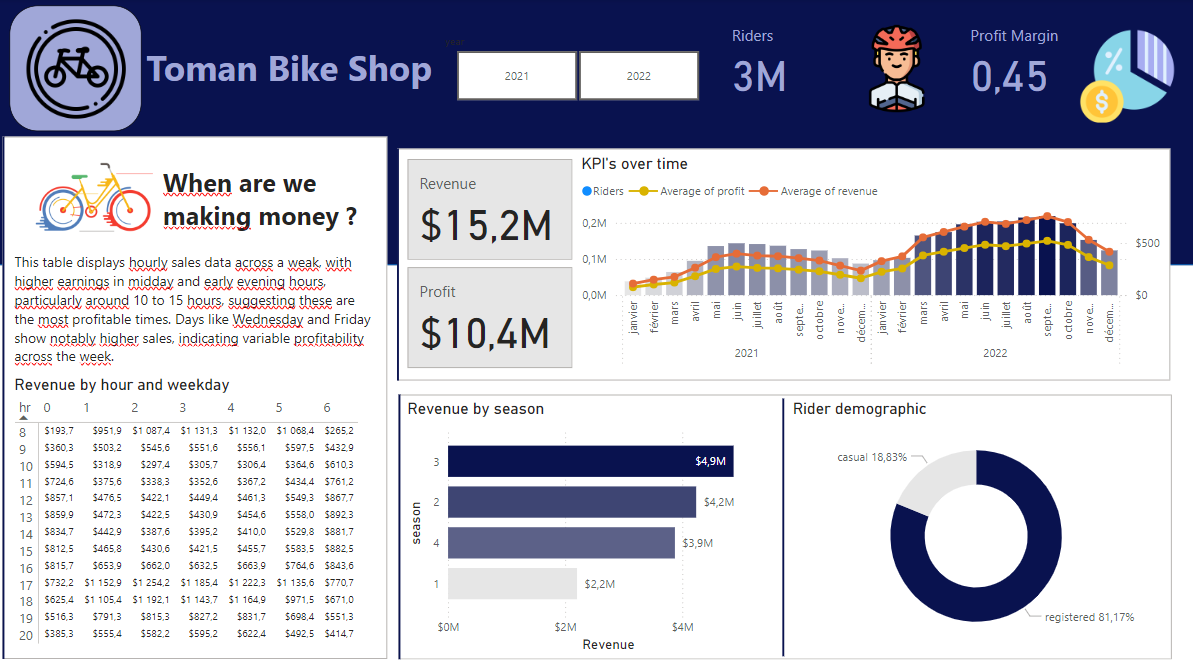

What the dashboard file says about the page in this screenshot:
{"tool":"powerbi","page":{"name":"Page 1","canvas":[1280,720],"ordinal":0},"visuals":[{"type":"shape","box":[8.3,0,1270,283.3],"z":0},{"type":"cardVisual","fields":{"Data":["Sum(Requête1.riders)"]},"box":[8,141.6,418.3,564.7],"z":1000},{"type":"cardVisual","fields":{"Data":["Sum(Requête1.riders)"]},"box":[426.7,155,830,256.7],"z":2000},{"type":"cardVisual","fields":{"Data":["Sum(Requête1.riders)"]},"box":[428.3,415,830,291.7],"z":3000},{"type":"pivotTable","title":"Revenue by hour and weekday","fields":{"Values":["Avg(Requête1.Revenue)"],"Columns":["Requête1.weekday"],"Rows":["Requête1.hr"]},"box":[20.7,399.2,392.9,297.4],"z":4000},{"type":"lineClusteredColumnComboChart","title":"KPI''s over time","fields":{"Y":["Sum(Requête1.riders)"],"Y2":["Avg(Requête1.Profit)","Avg(Requête1.Revenue)"],"Category":["Requête1.dteday.Variation.Hiérarchie de dates.Année","Requête1.dteday.Variation.Hiérarchie de dates.Mois","Requête1.dteday.Variation.Hiérarchie de dates.Jour"]},"box":[621.7,165,623.3,233.3],"z":5000},{"type":"clusteredBarChart","title":"Revenue by season","fields":{"Category":["Requête1.season"],"Y":["Sum(Requête1.Revenue)"]},"box":[436.7,425,405,273.3],"z":6000},{"type":"donutChart","title":"Rider demographic","fields":{"Category":["Requête1.rider_type"],"Y":["Sum(Requête1.riders)"]},"box":[846.7,425,398.3,271.7],"z":7000},{"type":"shape","box":[776.7,425,130,273.3],"z":8000},{"type":"cardVisual","fields":{"Data":["Sum(Requête1.riders)"]},"box":[11.1,144.7,195.6,143.2],"z":9000},{"type":"cardVisual","title":"KPI''s over time","fields":{"Data":["Sum(Requête1.Revenue)","Sum(Requête1.Profit)"]},"box":[436.7,165,185,233.3],"z":10000},{"type":"cardVisual","title":"KPI''s over time","fields":{"Data":["Sum(Requête1.riders)","Requête1.Profit Margin"]},"box":[770,11.7,508.3,126.7],"z":11000},{"type":"image","box":[20,8.3,140,133.3],"z":12000},{"type":"textbox","box":[160,43.3,350,61.7],"z":13000},{"type":"slicer","fields":{"Values":["Requête1.year"]},"box":[470,35,306.7,80],"z":14000},{"type":"textbox","box":[178.1,171.8,235.4,89.1],"z":15001},{"type":"textbox","box":[20.7,264,392.9,135.2],"z":15002}]}

Visuals, with their boxes in screenshot pixels (x1, y1, x2, y2), scaled from the page's 1280x720 canvas onto the 1193x666 screenshot:
shape: [8,0,1191,262]
cardVisual - Sum(Requête1.riders): [7,131,397,653]
cardVisual - Sum(Requête1.riders): [398,143,1171,381]
cardVisual - Sum(Requête1.riders): [399,384,1173,654]
"Revenue by hour and weekday" pivotTable: [19,369,385,644]
"KPI''s over time" lineClusteredColumnComboChart: [579,153,1160,368]
"Revenue by season" clusteredBarChart: [407,393,784,646]
"Rider demographic" donutChart: [789,393,1160,644]
shape: [724,393,845,646]
cardVisual - Sum(Requête1.riders): [10,134,193,266]
"KPI''s over time" cardVisual: [407,153,579,368]
"KPI''s over time" cardVisual: [718,11,1191,128]
image: [19,8,149,131]
textbox: [149,40,475,97]
slicer - Requête1.year: [438,32,724,106]
textbox: [166,159,385,241]
textbox: [19,244,385,369]
